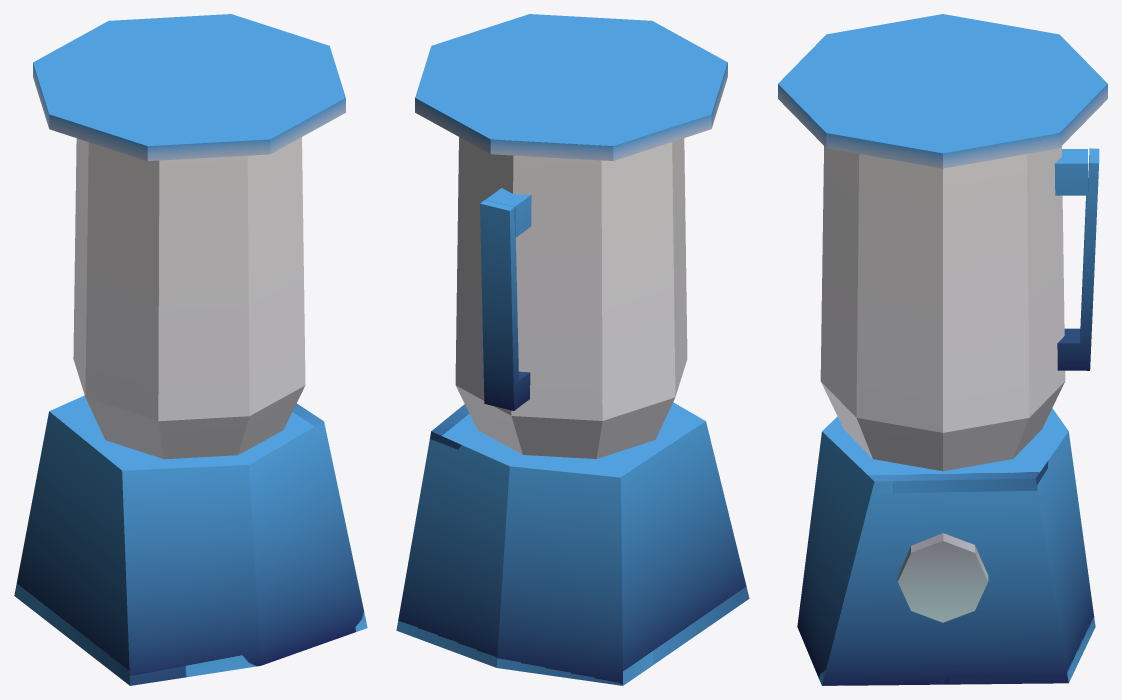
Rendered from Blender.glb.
3 renders of one model, left to right at view 1: azimuth 30°, elevation 25°; view 2: azimuth 150°, elevation 25°; view 3: azimuth 270°, elevation 25°, orthographic.
Parts seen in each view (by area): view 1: Cylinder, Cube; view 2: Cylinder, Cube, Cube.001; view 3: Cylinder, Cube, Cylinder.001, Cube.001.
Part boxes in pixels (<box>): Cylinder: <box>33,14,345,459</box>; Cube: <box>14,395,367,685</box>; Cylinder: <box>415,14,727,458</box>; Cube: <box>396,402,749,685</box>; Cube.001: <box>480,188,531,410</box>; Cylinder: <box>778,14,1107,471</box>; Cube: <box>797,408,1095,685</box>; Cylinder.001: <box>897,533,988,622</box>; Cube.001: <box>1054,148,1099,370</box>.
Size of the model in its own units: 1.45 by 2.64 by 1.45.
3 materials, 3 textured.
